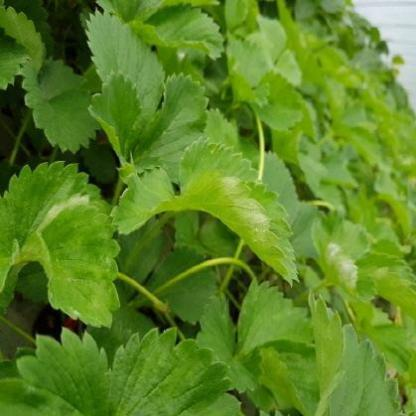Strawberry_Powdery_Mildew_Leaf: (109, 136, 301, 288), (0, 160, 121, 330), (310, 216, 377, 302)
